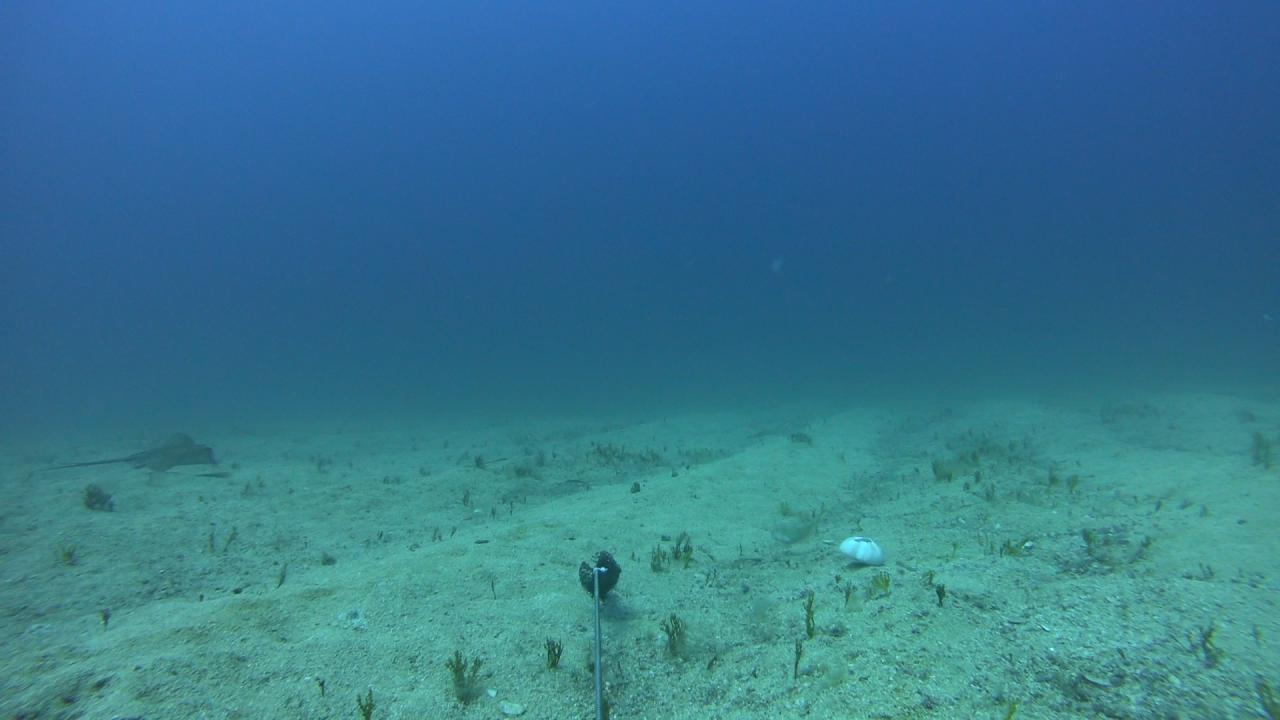dasyatis: (42, 432, 221, 473)
